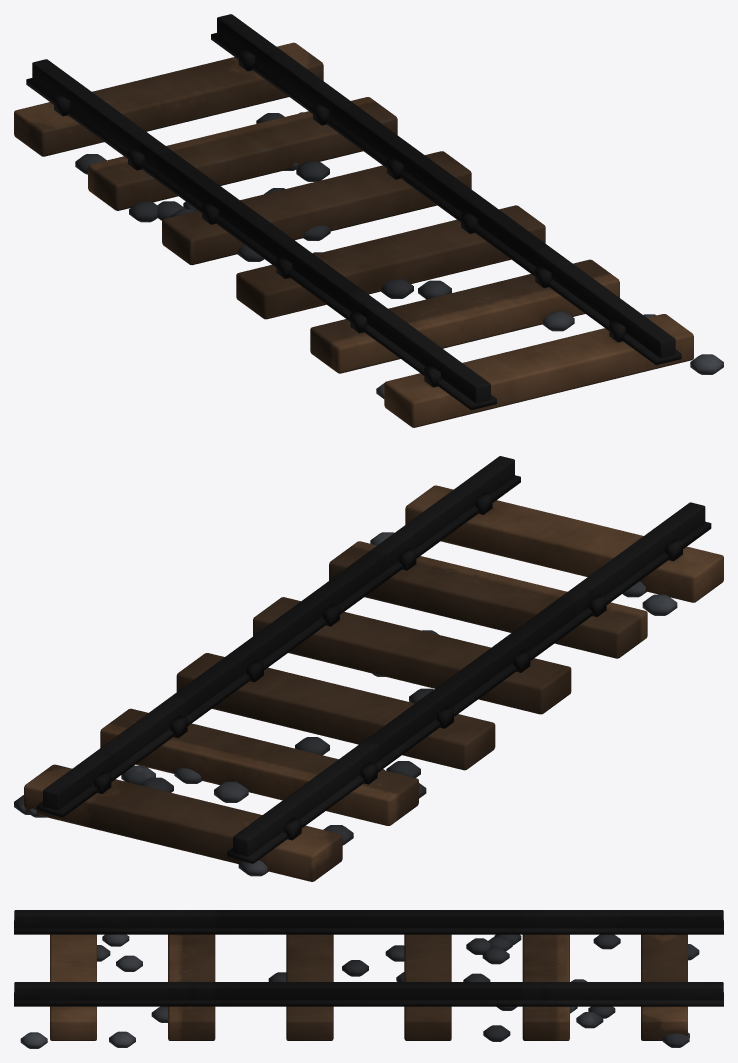
Rendered from rails.obj.
3 renders of one model, top to bottom at view 1: azimuth 30°, elevation 25°; view 2: azimuth 150°, elevation 25°; view 3: azimuth 270°, elevation 25°, orthographic. The views are drawn at different scales.
Visible parts, largest first — view 1: part0, part1, part2; view 2: part0, part1, part2; view 3: part1, part0, part2.
Boxes of the visible parts, box(x1,y1,x2,y2) form: part0: box(14, 42, 693, 427); part1: box(26, 14, 681, 410); part2: box(75, 112, 723, 398); part0: box(24, 485, 723, 881); part1: box(36, 456, 711, 863); part2: box(14, 532, 677, 876); part1: box(14, 910, 723, 1006); part0: box(50, 934, 687, 1040); part2: box(20, 934, 699, 1048).
Size of the model in its own units: 1.16 by 0.2 by 3.
